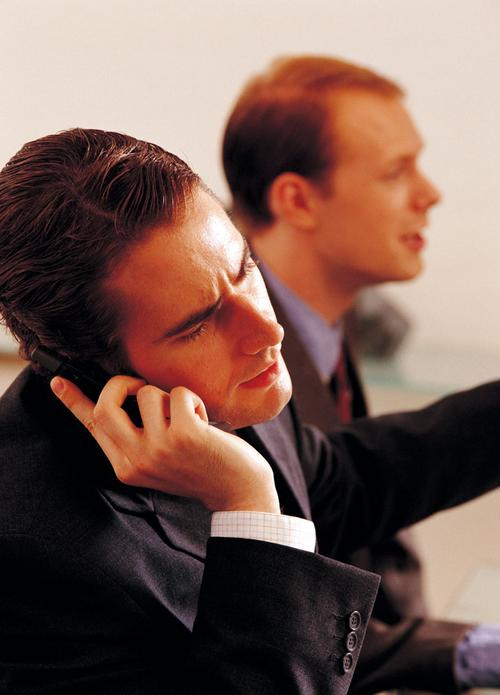calling: (25, 346, 277, 499)
